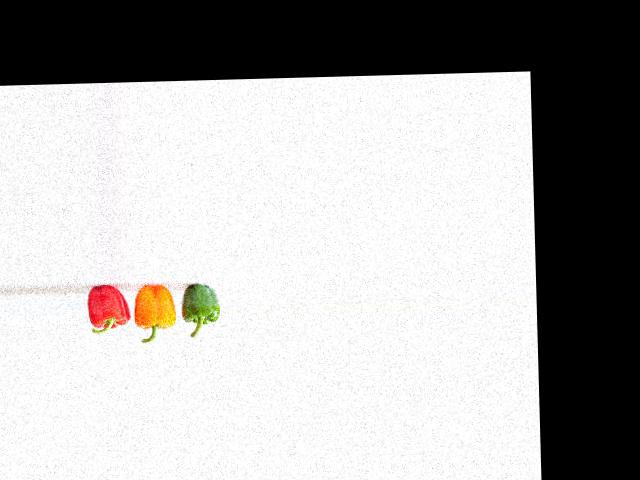bell_pepper: (84, 285, 131, 344)
